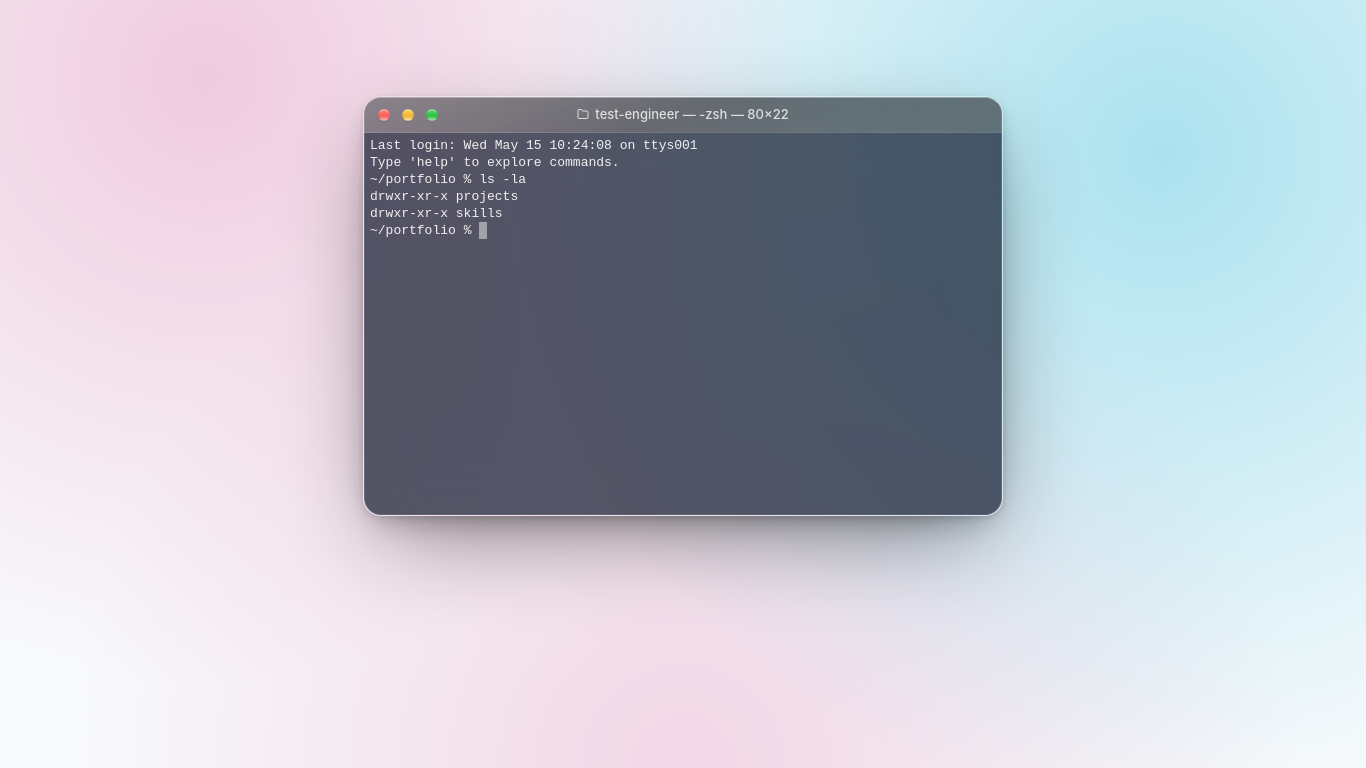
Test: TerminalWindow › runs the theme toggle command
Type "theme toggle" into the field named "Terminal command input" at (738, 230), box [479, 222, 996, 239]
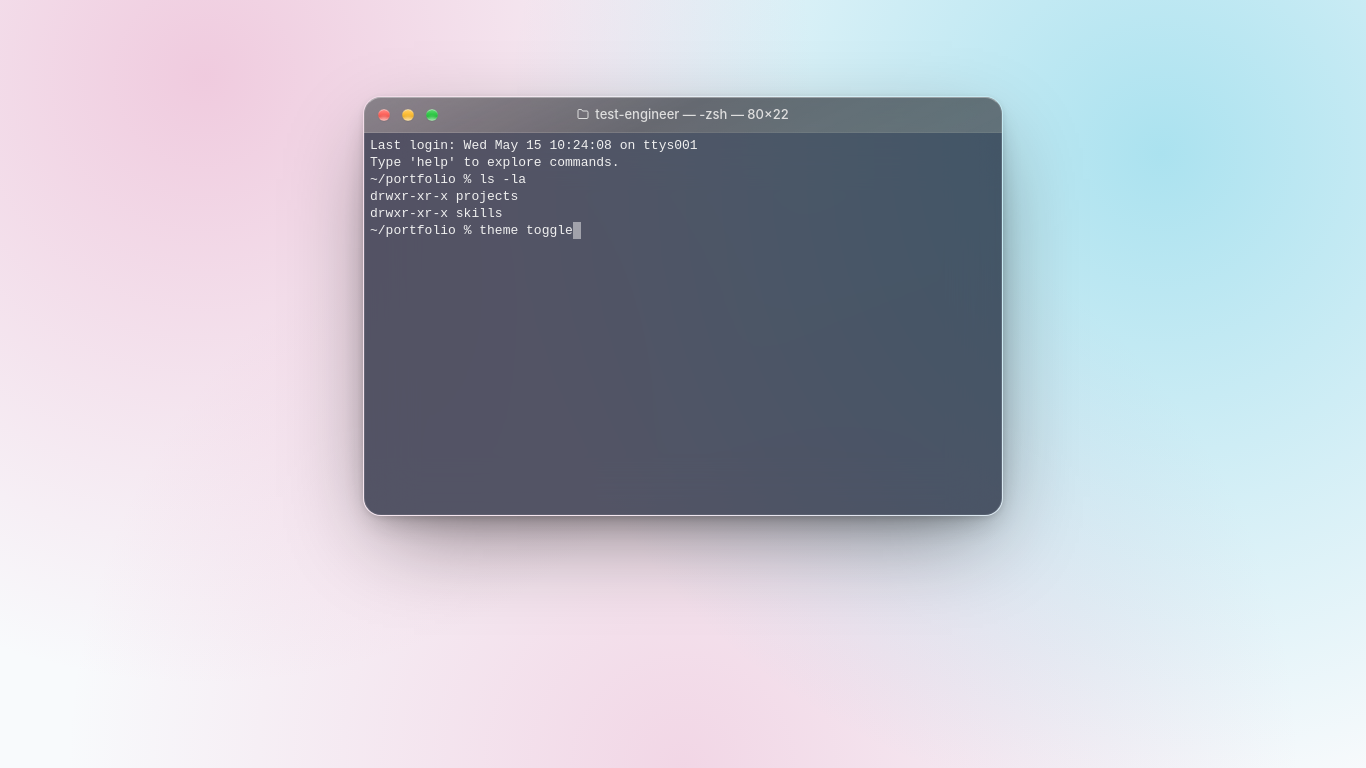
Submit the form named "Terminal command input", box [370, 222, 996, 239]
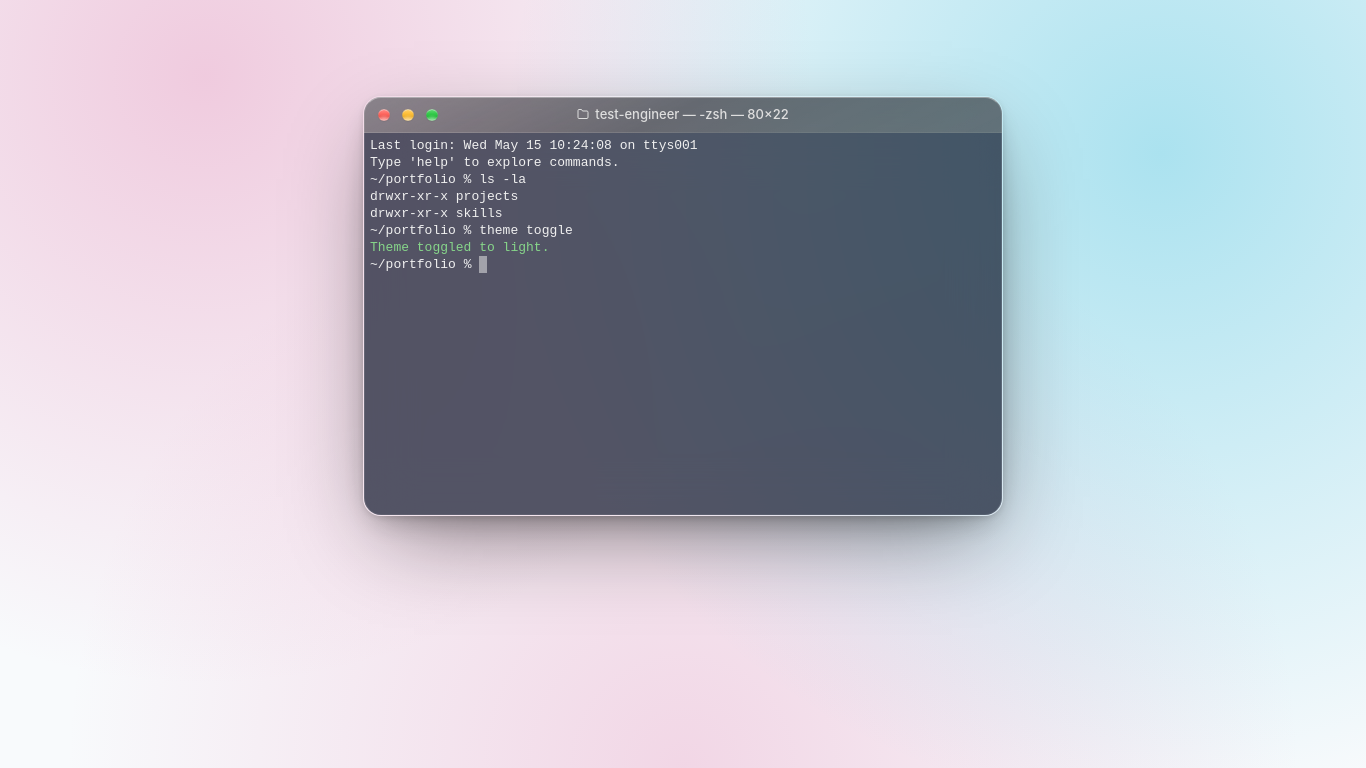
Expected: the text "Theme toggled to light." is shown, [370, 240, 549, 255]
